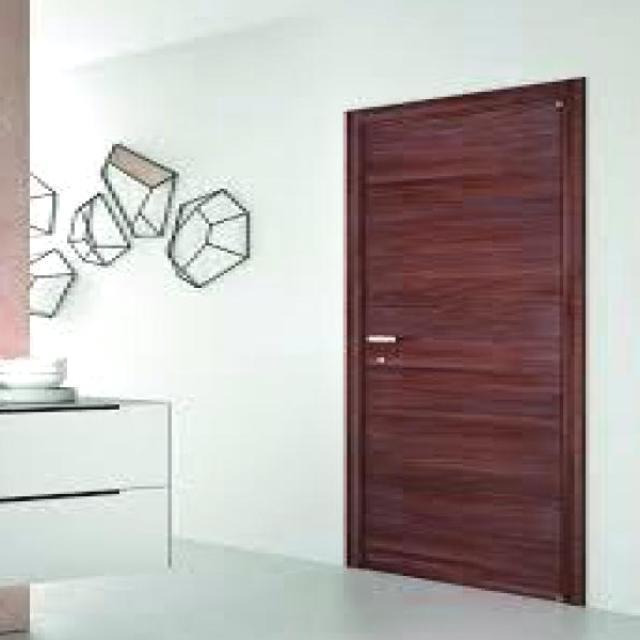door: (344, 76, 585, 605)
